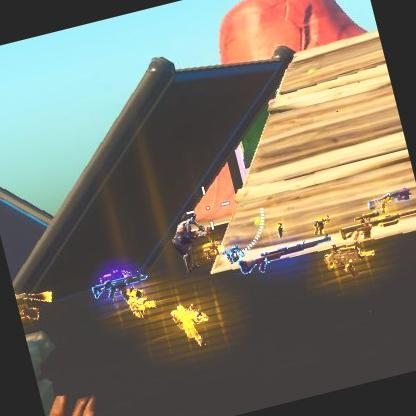person: (170, 216, 204, 268), (276, 222, 285, 237)
